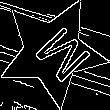M_SW: (18, 18, 87, 86)
